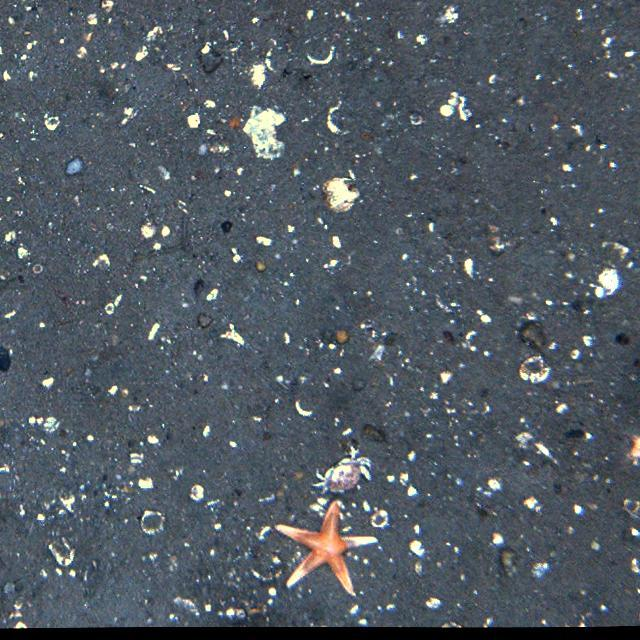crab: (309, 446, 374, 498)
